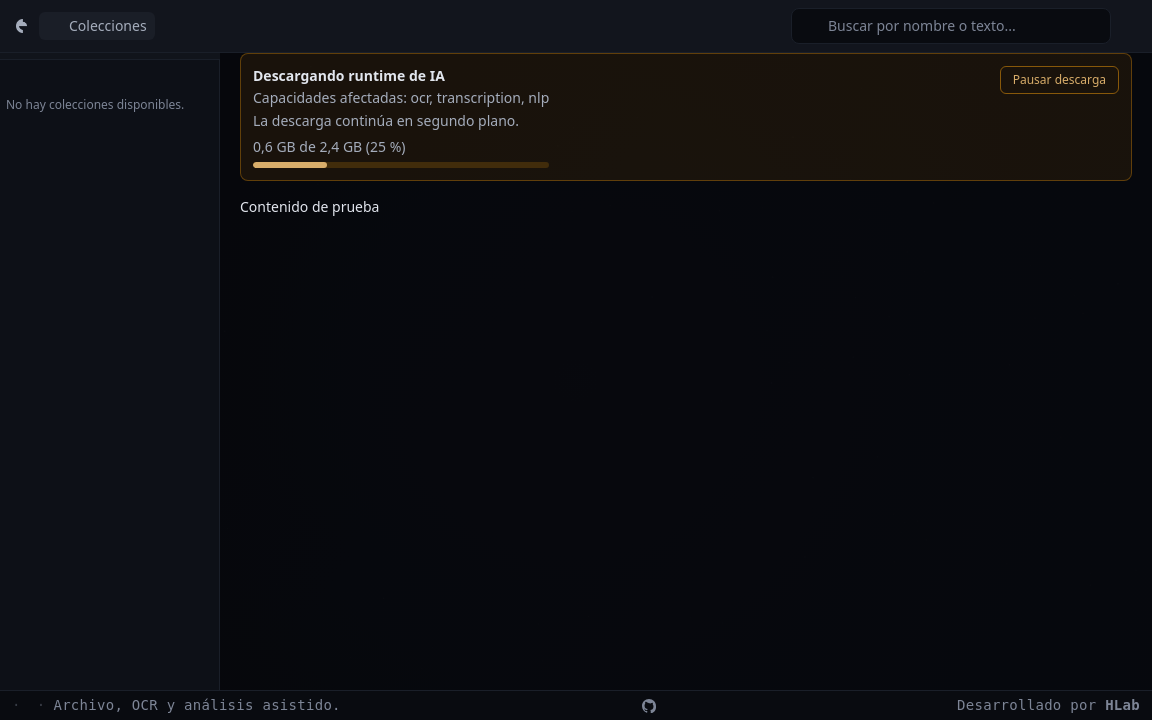
it: AppShell › runtime bootstrap banner › pause_cancel_returns_to_pending_state
Click the button "Pausar descarga". click: (1059, 80)
box: [1000,66,1119,94]
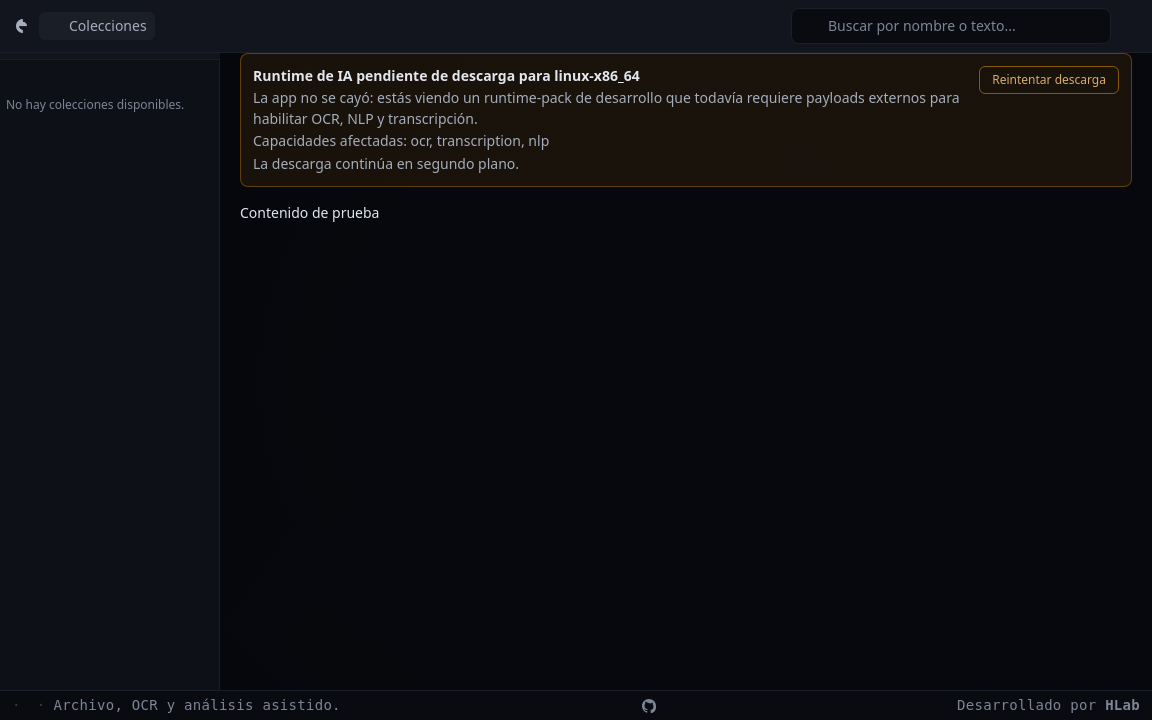
Expected: the text "Runtime de IA pendiente de descarga para linux-x86_64" is shown, [253,66,640,85]
Expected: the progress indicator is gone
Expected: the button "Pausar descarga" is gone
